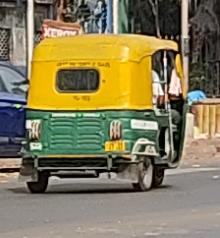Auto: (21, 30, 190, 196)
